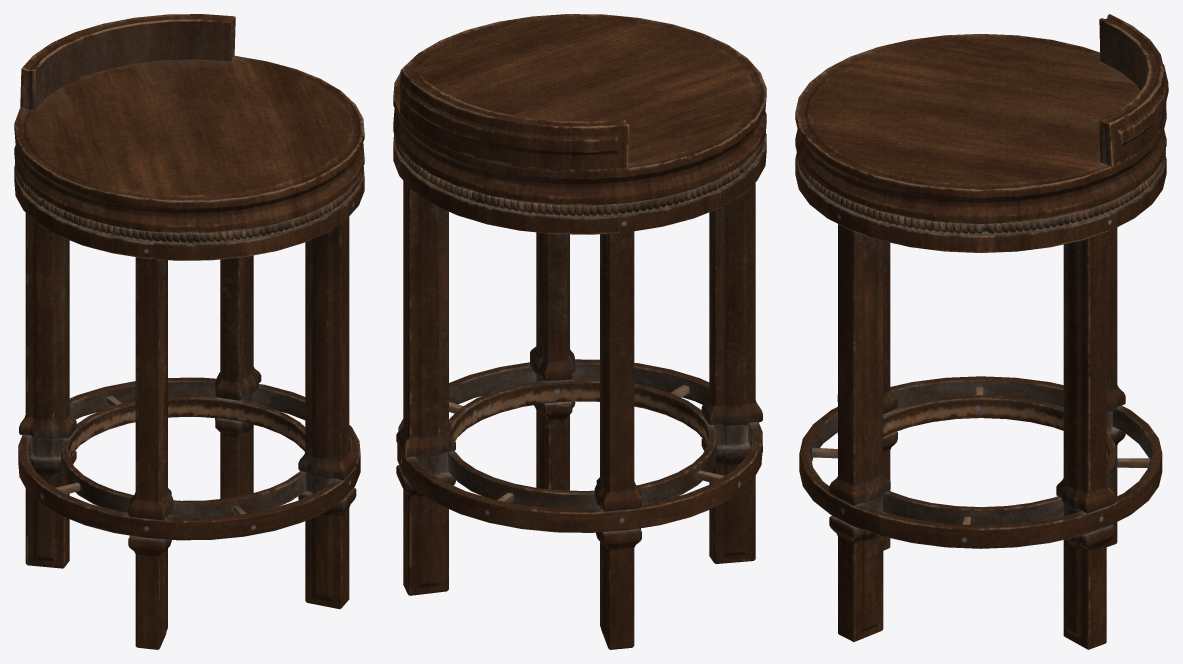
Rendered from bar_chair_round_01_1k.gltf.
3 renders of one model, left to right at view 1: azimuth 30°, elevation 25°; view 2: azimuth 150°, elevation 25°; view 3: azimuth 270°, elevation 25°, orthographic. The views are drawn at different scales.
Visible parts, largest first — view 1: bar_chair_round_01; view 2: bar_chair_round_01; view 3: bar_chair_round_01.
Boxes of the visible parts, x1,y1,x2,y2 form: bar_chair_round_01: (14,14,364,649); bar_chair_round_01: (393,14,766,649); bar_chair_round_01: (795,14,1168,649).
Bounding box in the file's own units: 0.4832 × 0.7505 × 0.486.
1 material, 1 textured.
